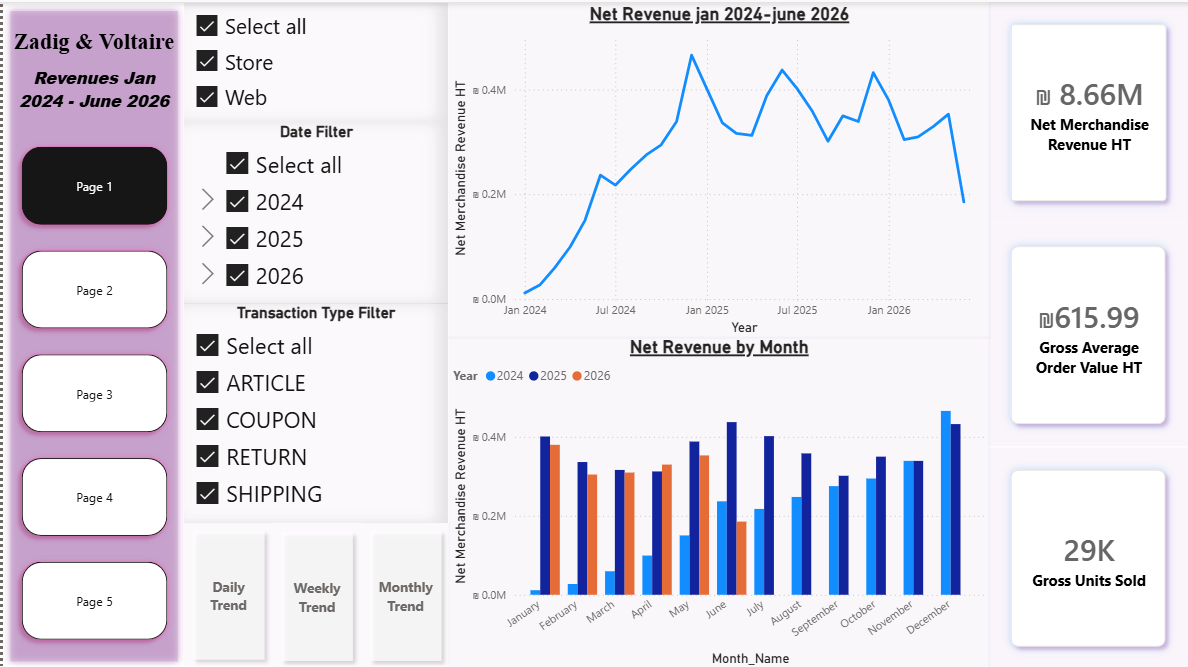

What the dashboard file says about the page in this screenshot:
{"tool":"powerbi","page":{"name":"Page 1","canvas":[1280,720],"ordinal":0},"visuals":[{"type":"cardVisual","fields":{"Data":["_Measures.Gross Units Sold"]},"box":[1063.8,480.9,215.4,239.6],"z":0},{"type":"cardVisual","title":"Net Revenue","fields":{"Data":["_Measures.Net Merchandise Revenue HT"]},"box":[1063.8,0,217,239.6],"z":1000},{"type":"cardVisual","fields":{"Data":["_Measures.Gross Average Order Value HT"]},"box":[1063.8,239.6,215.4,240],"z":2000},{"type":"slicer","title":"Transaction Type Filter","fields":{"Values":["fact_sales_items.Line_Type"]},"box":[196.7,325.8,284.2,237.5],"z":3000},{"type":"slicer","title":"Date Filter","fields":{"Values":["dim_calendar.Year","dim_calendar.Month_Name","dim_calendar.Day_Of_Week"]},"box":[195.9,129.5,285,195.9],"z":4000},{"type":"clusteredColumnChart","title":"Net Revenue by Month","fields":{"Category":["dim_calendar.Month_Name"],"Series":["dim_calendar.Year"],"Y":["_Measures.Net Merchandise Revenue HT"]},"box":[480.9,361.1,584.5,359.5],"z":5000},{"type":"lineChart","title":"Net Revenue jan 2024-june 2026","fields":{"Category":["dim_calendar.Clean_Date.Variation.Date Hierarchy.Year","dim_calendar.Clean_Date.Variation.Date Hierarchy.Quarter","dim_calendar.Clean_Date.Variation.Date Hierarchy.Month"],"Y":["_Measures.Net Merchandise Revenue HT"]},"box":[481.7,1.7,585,361.7],"z":6000},{"type":"actionButton","box":[386.7,561.7,95,158.3],"z":8000},{"type":"actionButton","box":[291.7,563.3,95,156.7],"z":9000},{"type":"actionButton","box":[196.7,561.7,95,156.7],"z":11000},{"type":"shape","title":"sd","box":[0,1.7,196.7,718.3],"z":12000},{"type":"pageNavigator","box":[11.7,146.7,175,550],"z":13000},{"type":"shape","box":[0,0,196.7,85],"z":14000},{"type":"slicer","title":"Date Filter","fields":{"Values":["fact_sales_items.Channel"]},"box":[195.9,1.6,285,127.9],"z":15000}]}

Visuals, with their boxes on the page's 1280x720 design canvas (x1, y1, x2, y2). These are canvas units, not pixel positions in the 1188x667 screenshot, which may show the page scaled, cropped or inside an application window:
cardVisual - _Measures.Gross Units Sold: 1064:481:1279:720
"Net Revenue" cardVisual: 1064:0:1281:240
cardVisual - _Measures.Gross Average Order Value HT: 1064:240:1279:480
"Transaction Type Filter" slicer: 197:326:481:563
"Date Filter" slicer: 196:130:481:325
"Net Revenue by Month" clusteredColumnChart: 481:361:1065:721
"Net Revenue jan 2024-june 2026" lineChart: 482:2:1067:363
actionButton: 387:562:482:720
actionButton: 292:563:387:720
actionButton: 197:562:292:718
"sd" shape: 0:2:197:720
pageNavigator: 12:147:187:697
shape: 0:0:197:85
"Date Filter" slicer: 196:2:481:130
